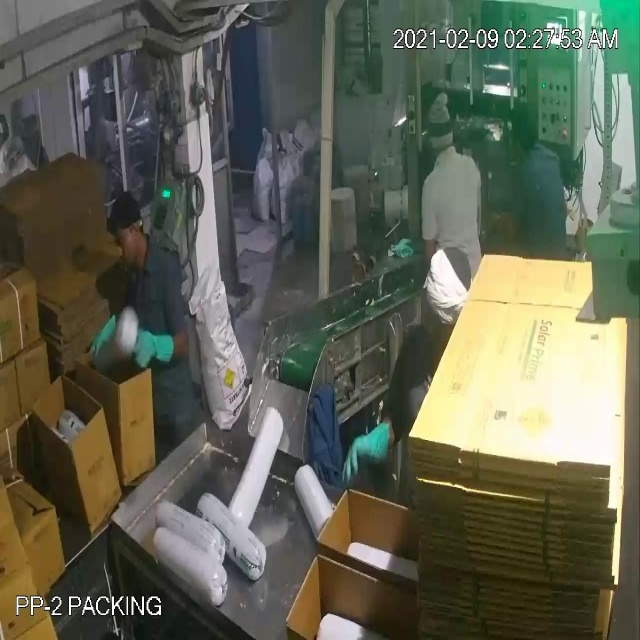Guantes: (332, 415, 403, 498), (129, 320, 178, 376), (85, 309, 119, 360)
